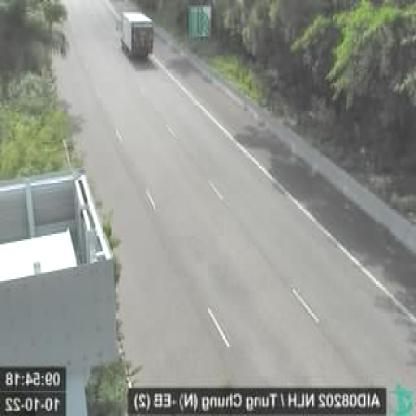Truck: (119, 10, 155, 60)
